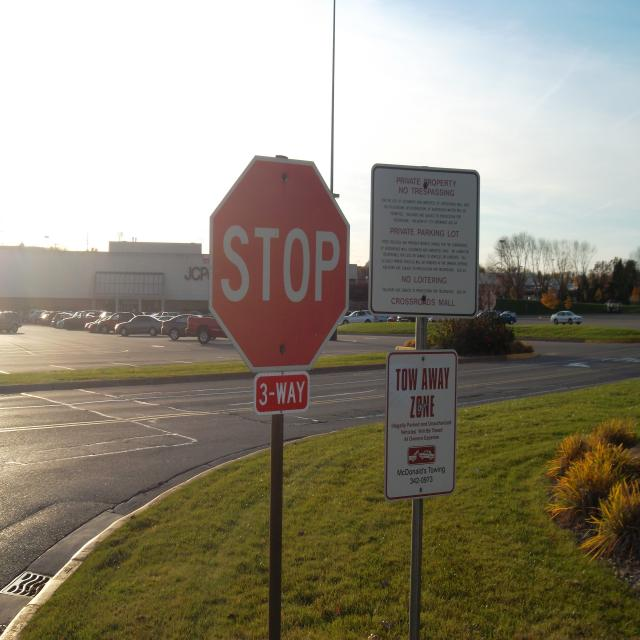regulatory: (376, 352, 459, 504)
stop: (204, 150, 356, 370)
